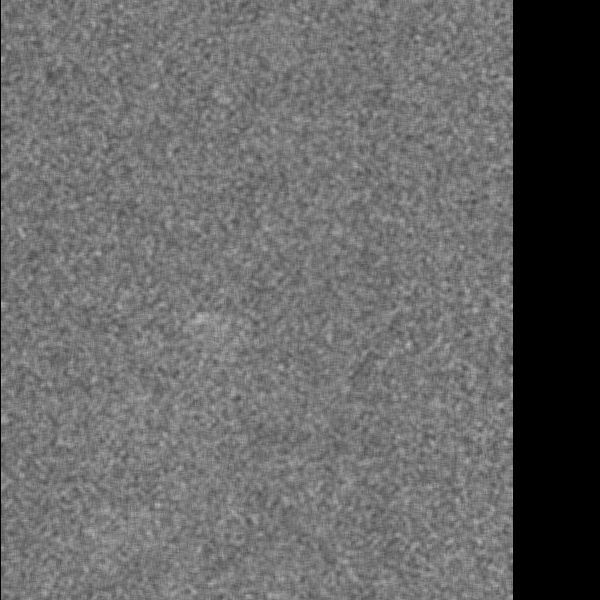spark: (186, 304, 228, 336)
